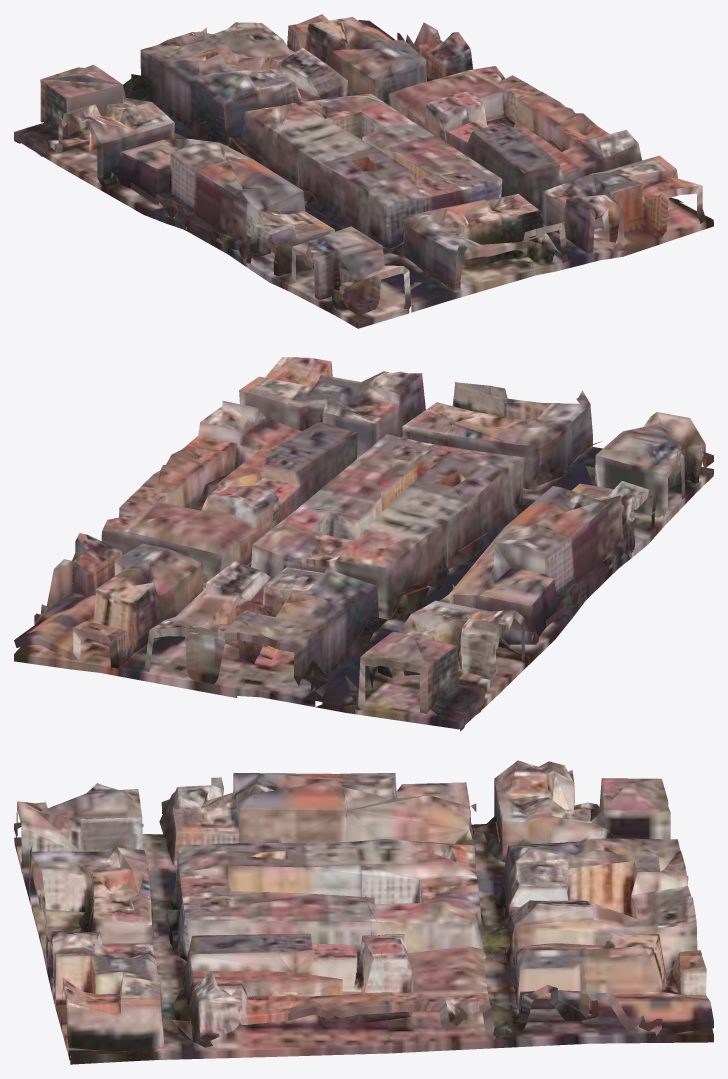
3 renders of one model, top to bottom at view 1: azimuth 30°, elevation 25°; view 2: azimuth 150°, elevation 25°; view 3: azimuth 270°, elevation 25°, orthographic. The views are drawn at different scales.
Visible parts, largest first — view 1: Mesh_0; view 2: Mesh_0; view 3: Mesh_0.
Part boxes in pixels (x1,y1,x2,y2): Mesh_0: (14,14,713,328); Mesh_0: (14,357,713,731); Mesh_0: (14,760,713,1064).
Size of the model in its own units: 266 by 47.01 by 330.
Materials: 2 (2 with a texture image).
